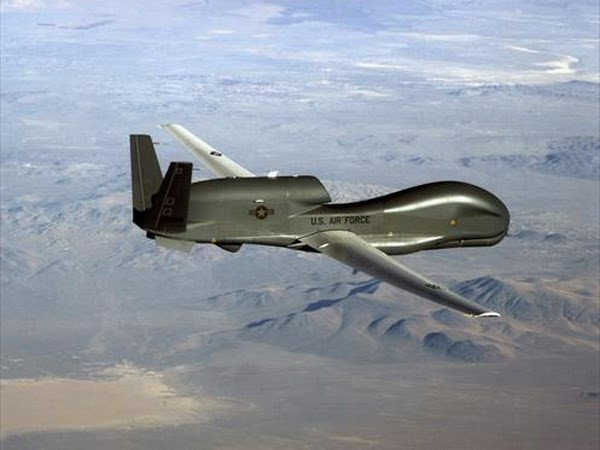maybay_khongnguoilai: (127, 120, 507, 319)
